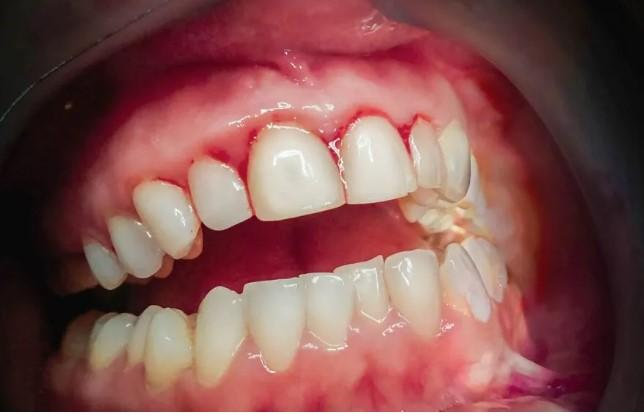Gingivitis: (351, 352, 430, 410), (188, 133, 254, 167), (312, 122, 352, 166), (389, 111, 419, 156), (154, 170, 190, 192)
